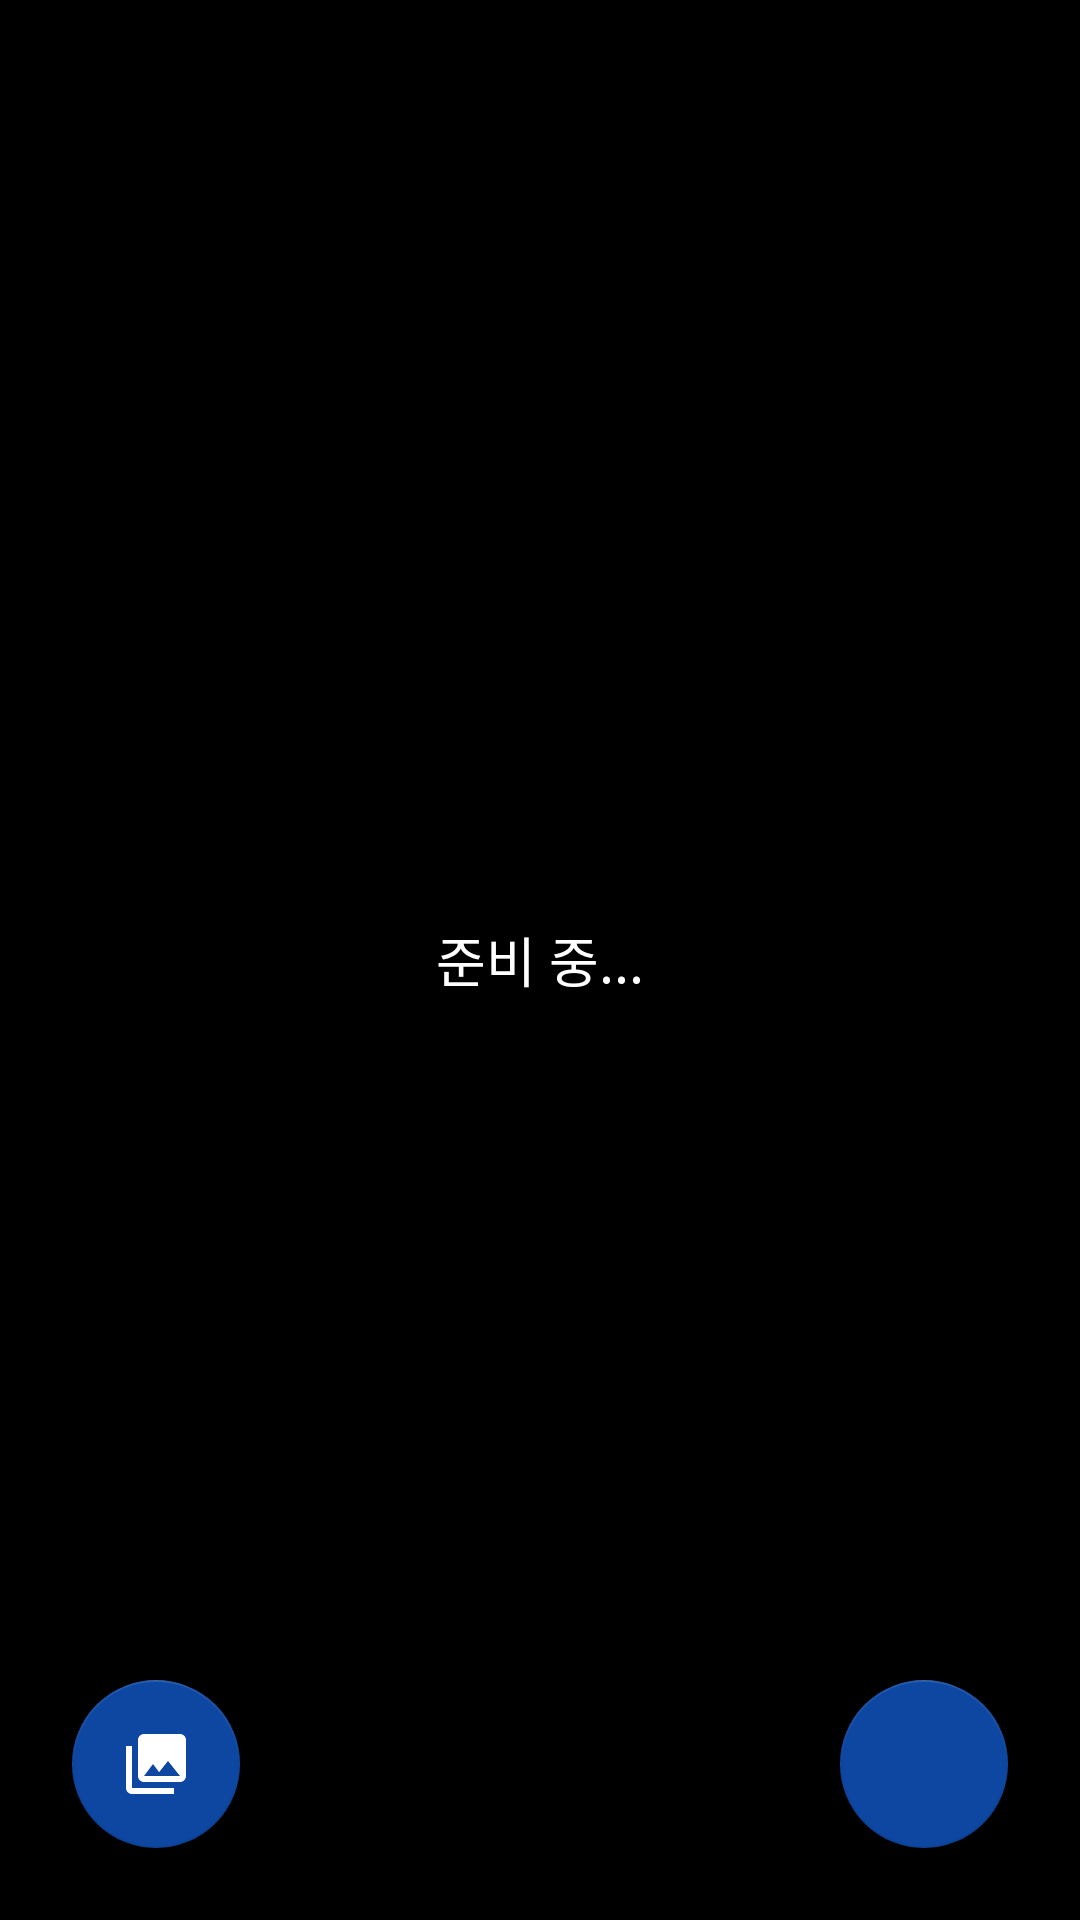

Named icons in this screenshot (1080×1920) and their centers, [x,y]:
촬영 기록: [156,1764]
